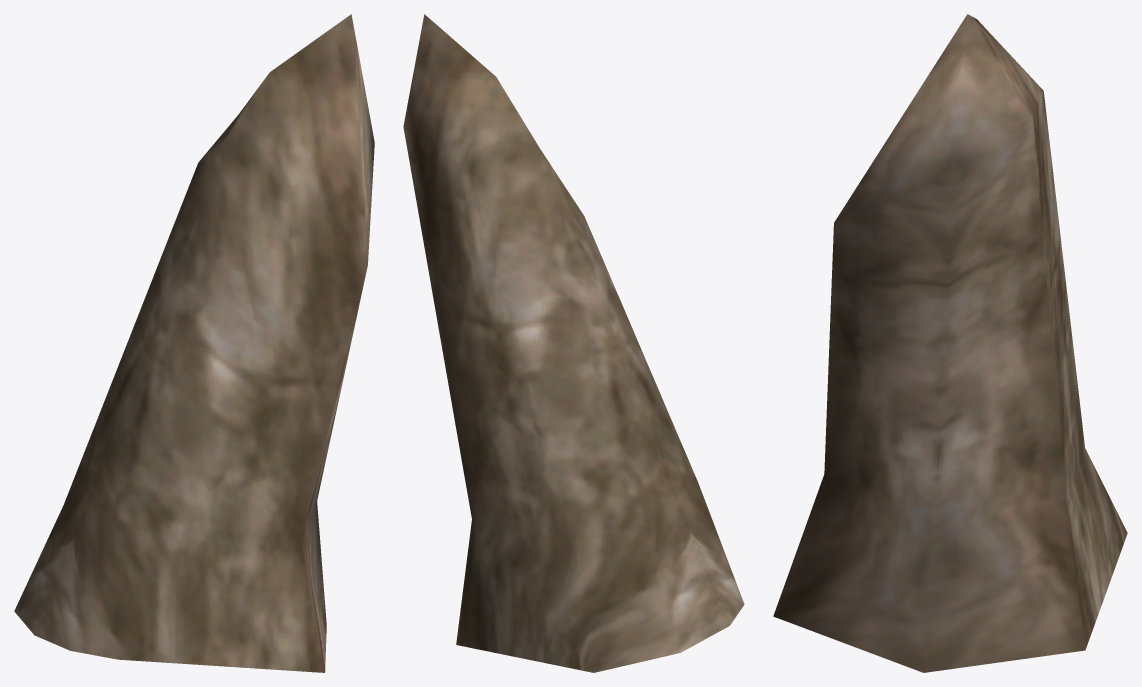
Rendered from OVERHILL_A_01_ROCK33.fbx.
The picture shows the model from 3 angles, left to right: view 1: azimuth 30°, elevation 25°; view 2: azimuth 150°, elevation 25°; view 3: azimuth 270°, elevation 25°; orthographic projection. The views are drawn at different scales.
Visible parts, largest first — view 1: OVERHILL_A_01_ROCK33; view 2: OVERHILL_A_01_ROCK33; view 3: OVERHILL_A_01_ROCK33.
Boxes of the visible parts, x1,y1,x2,y2 form: OVERHILL_A_01_ROCK33: (14, 14, 374, 672); OVERHILL_A_01_ROCK33: (403, 14, 744, 672); OVERHILL_A_01_ROCK33: (773, 14, 1127, 672).
Bounding box in the file's own units: 36448 × 61658 × 28975.
1 material, 1 textured.
